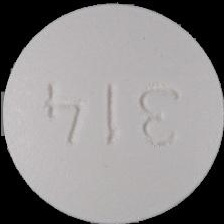51655-170: (0, 0, 224, 224)
